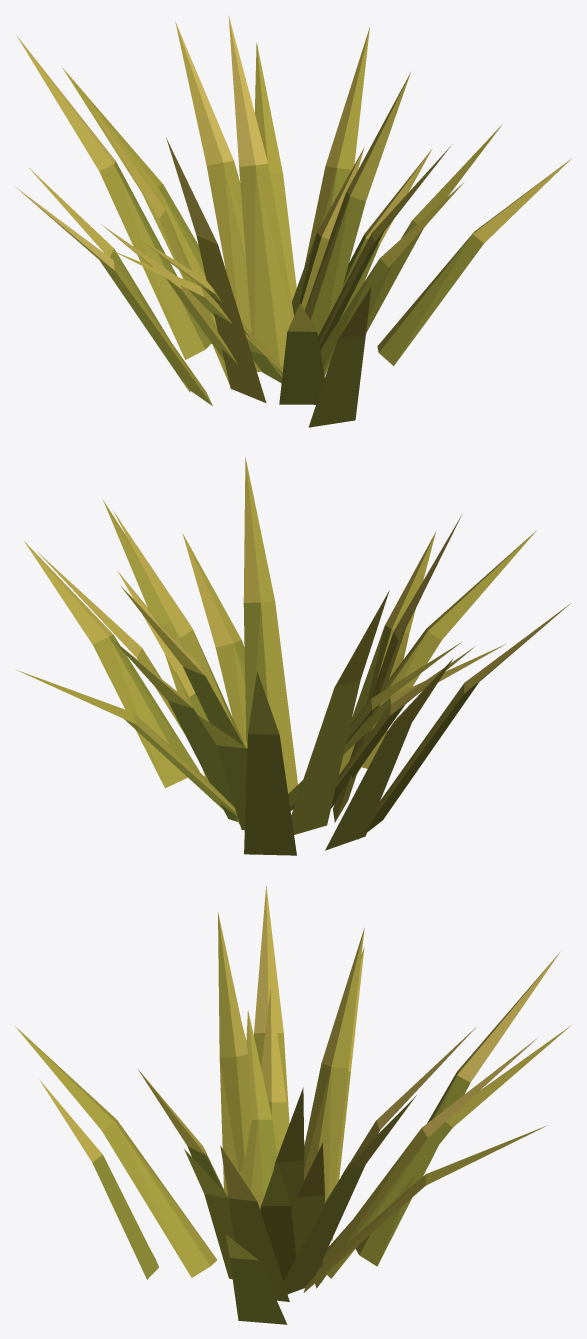
File: SM_GRASS_BUSH_01.fbx
The picture shows the model from 3 angles, top to bottom: view 1: azimuth 30°, elevation 25°; view 2: azimuth 150°, elevation 25°; view 3: azimuth 270°, elevation 25°; orthographic projection. The views are drawn at different scales.
Parts seen in each view (by area): view 1: GRASS_BUSH_01; view 2: GRASS_BUSH_01; view 3: GRASS_BUSH_01.
Boxes of the visible parts, x1,y1,x2,y2 form: GRASS_BUSH_01: [14, 15, 571, 427]; GRASS_BUSH_01: [15, 457, 570, 855]; GRASS_BUSH_01: [15, 886, 571, 1324].
Bounding box in the file's own units: 0.8698 × 0.7842 × 0.4555.
